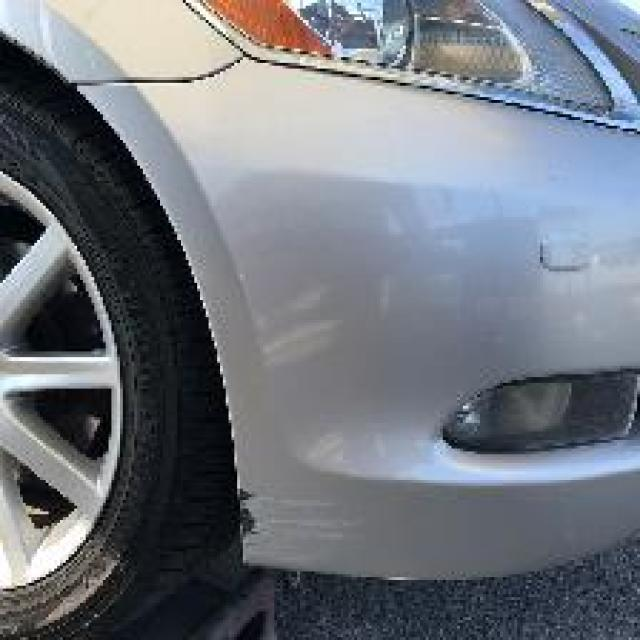bumper_scratch_minor: (240, 489, 346, 537)
